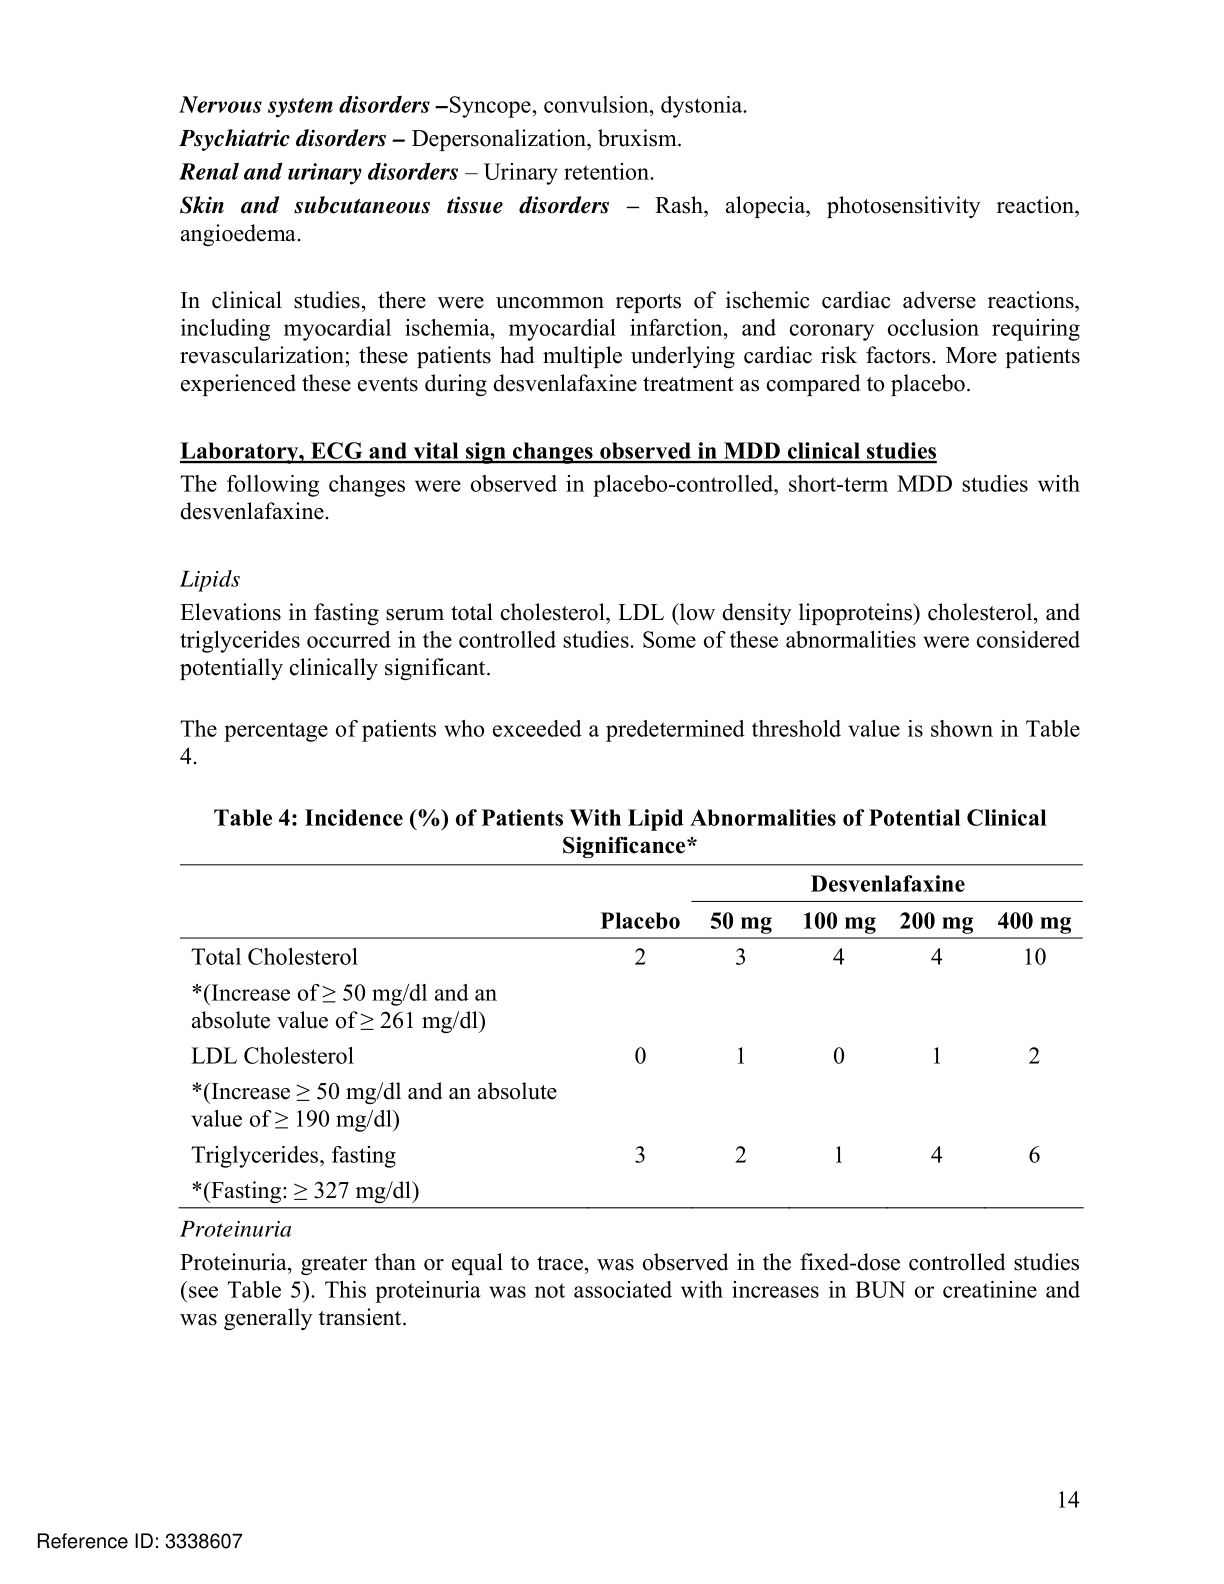partial_lined_merged_cells: (175, 859, 1084, 1214)
